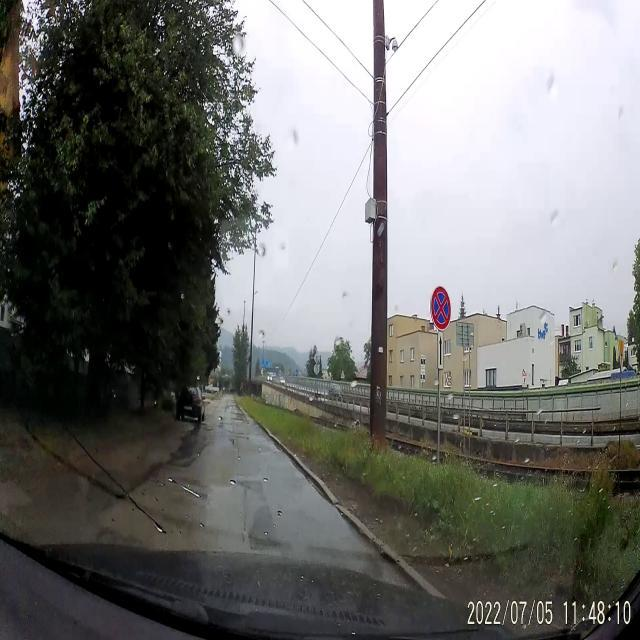Pothole: (230, 435, 237, 445)
